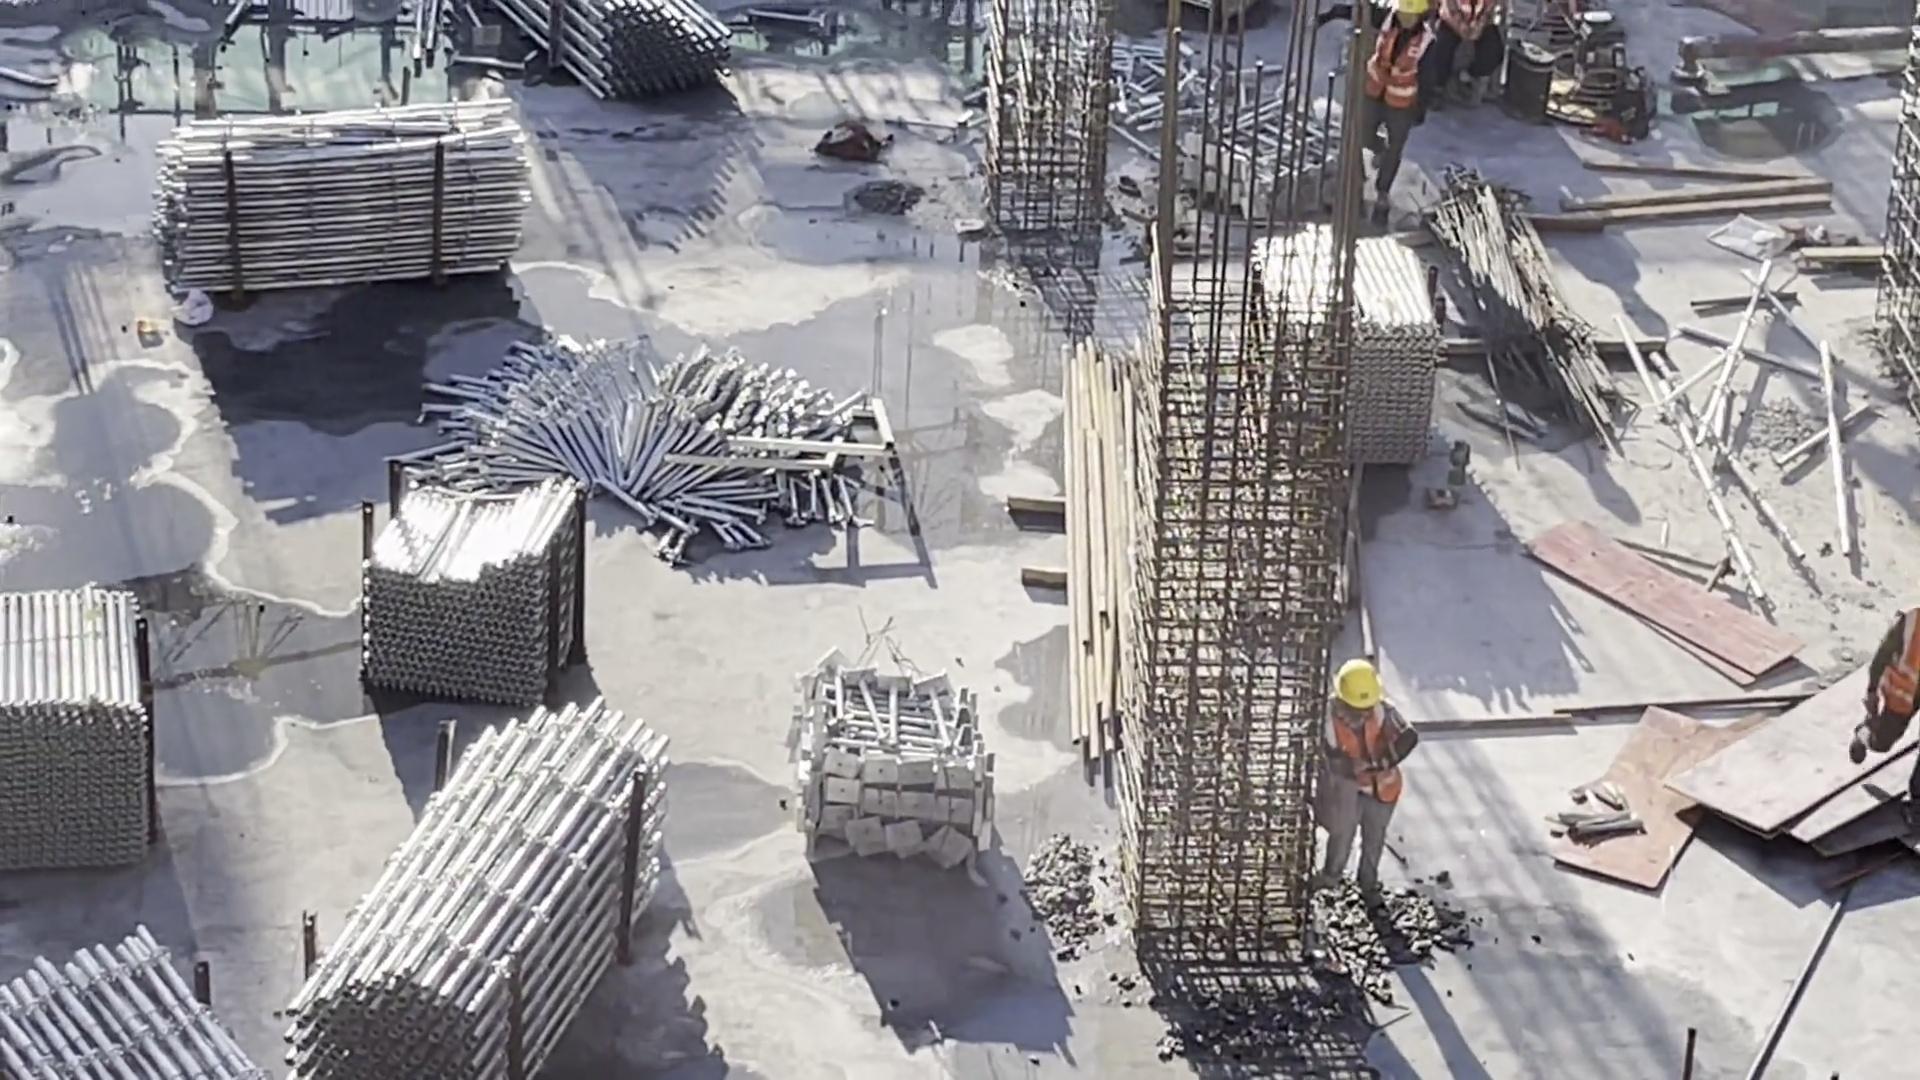board: (1721, 668, 1920, 845)
helmet: (1343, 669, 1377, 709)
person: (1308, 660, 1411, 906), (1851, 594, 1920, 807), (1364, 1, 1423, 217), (1428, 1, 1519, 112)
scaffold: (290, 712, 670, 1080), (426, 343, 886, 570), (161, 109, 550, 292), (348, 452, 592, 705), (781, 649, 982, 884), (10, 584, 172, 876), (1263, 233, 1453, 476), (21, 913, 280, 1080), (1132, 58, 1352, 193), (506, 1, 745, 113)
vest: (1315, 696, 1410, 807), (1356, 12, 1424, 113), (1881, 625, 1920, 715), (1435, 1, 1508, 48)
